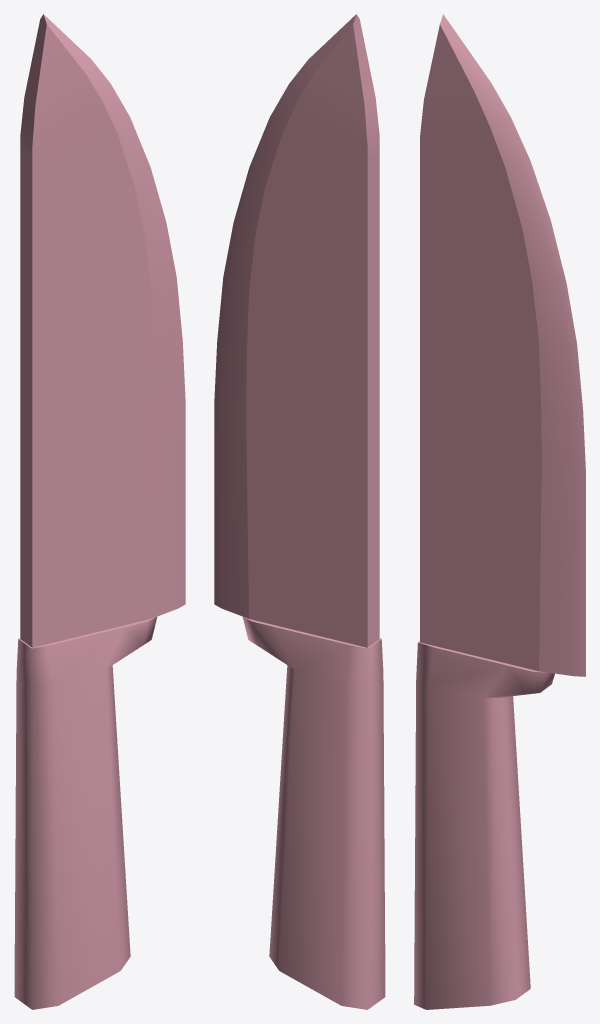
Rendered from Knife.fbx.
3 views of the same model, side by side, from view 1: azimuth 30°, elevation 25°; view 2: azimuth 150°, elevation 25°; view 3: azimuth 330°, elevation 25° (orthographic).
Visible parts, largest first — view 1: Knife; view 2: Knife; view 3: Knife.
Part boxes in pixels (x1,y1,x2,y2): Knife: [14, 14, 185, 1009]; Knife: [214, 14, 385, 1009]; Knife: [414, 14, 585, 1009].
Bounding box in the file's own units: 9.55 × 55.43 × 3.24.
